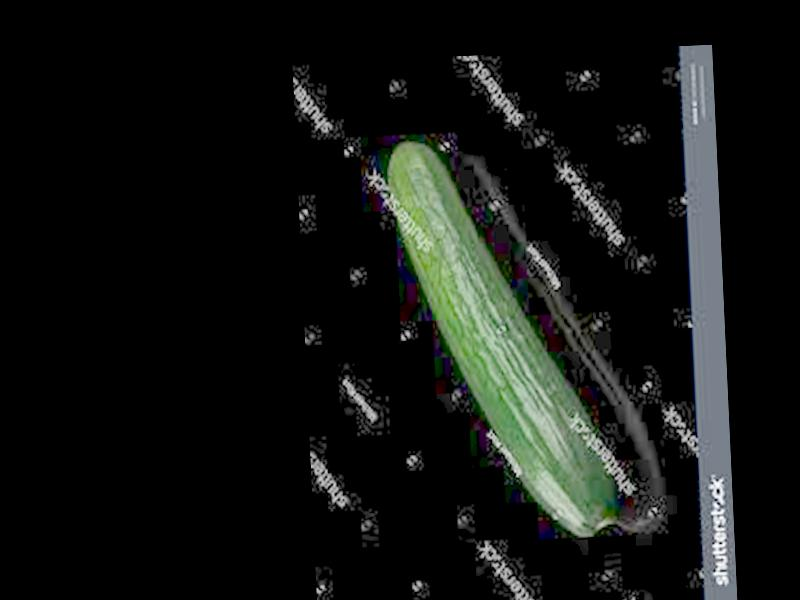Cucumber: (384, 130, 622, 544)
